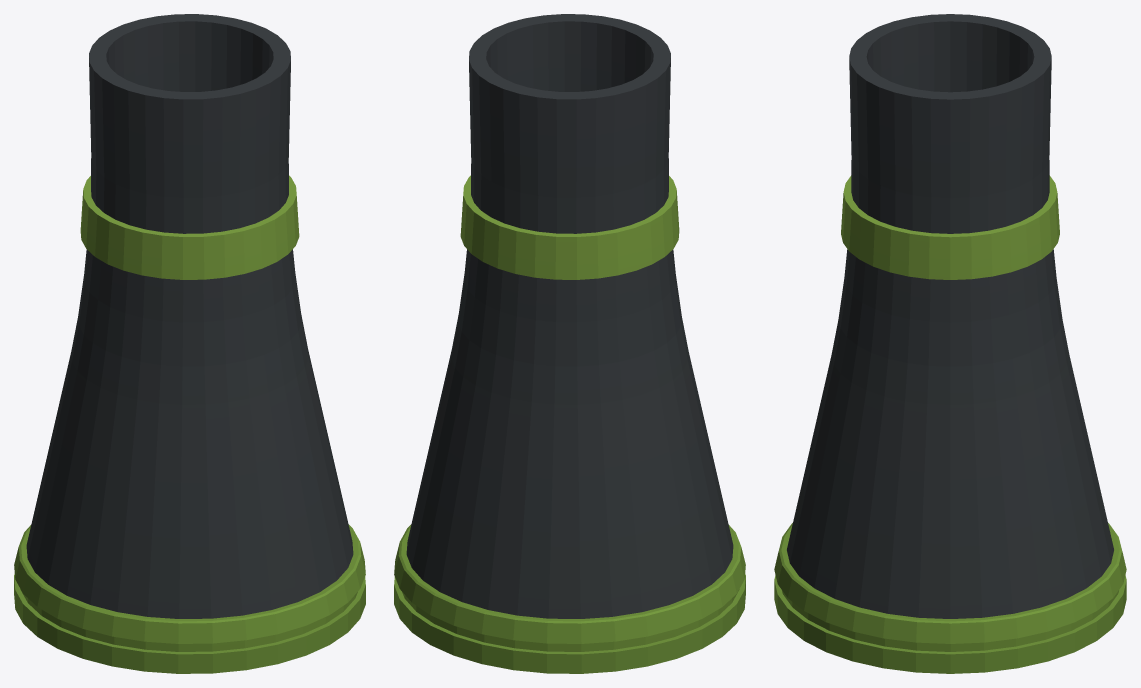
The model's file is Factory_01.fbx.
The picture shows the model from 3 angles, left to right: view 1: azimuth 30°, elevation 25°; view 2: azimuth 150°, elevation 25°; view 3: azimuth 270°, elevation 25°; orthographic projection.
Visible parts, largest first — view 1: Factory_01; view 2: Factory_01; view 3: Factory_01.
Boxes of the visible parts, x1,y1,x2,y2 form: Factory_01: (14, 14, 365, 673); Factory_01: (394, 14, 745, 673); Factory_01: (774, 14, 1126, 673).
Bounding box in the file's own units: 11.26 × 19.14 × 11.26.
